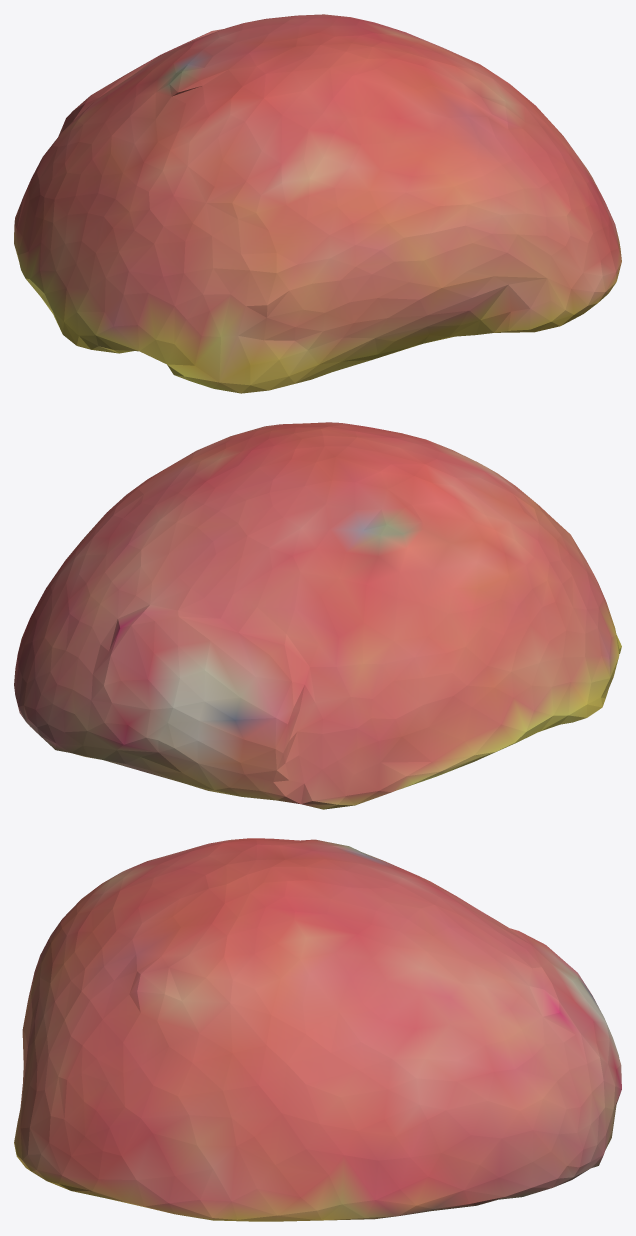
Rendered from scan.obj.
3 views of the same model, one above another, from view 1: azimuth 30°, elevation 25°; view 2: azimuth 150°, elevation 25°; view 3: azimuth 270°, elevation 25° (orthographic). The views are drawn at different scales.
Parts seen in each view (by area): view 1: scan.ply; view 2: scan.ply; view 3: scan.ply.
Boxes of the visible parts, box(x1,y1,x2,y2) form: scan.ply: box(14, 14, 621, 393); scan.ply: box(14, 422, 621, 809); scan.ply: box(14, 838, 621, 1221).
Bounding box in the file's own units: 0.0769 × 0.0326 × 0.0737.
